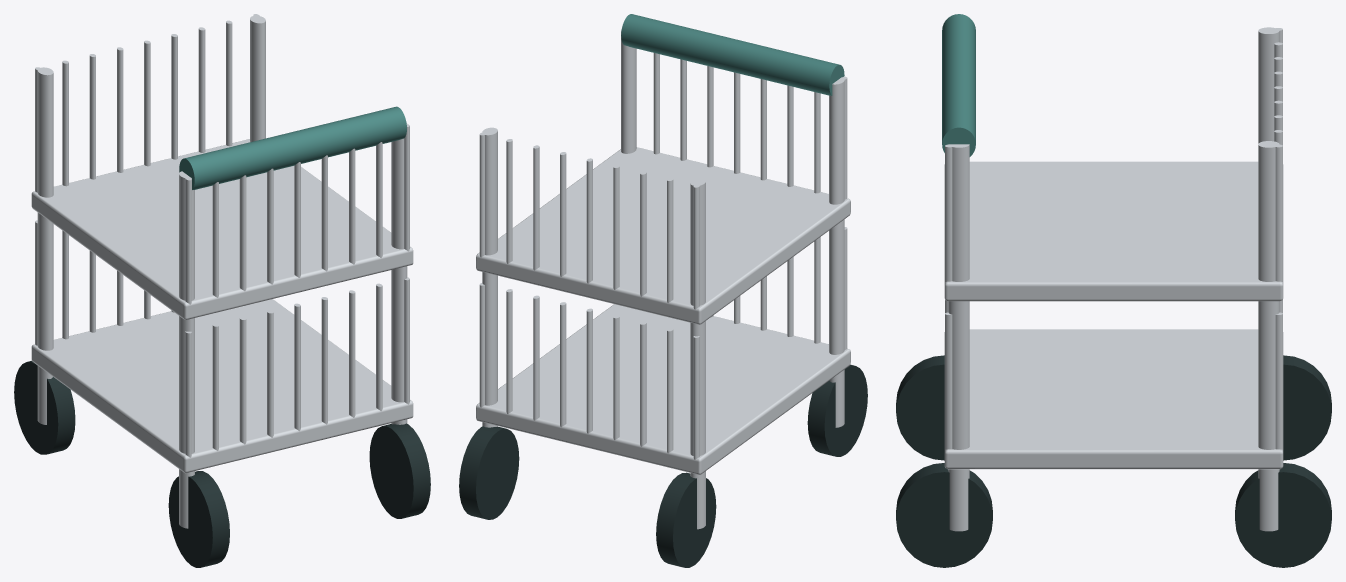
Rendered from wp-chariot-de-supermarche.glb.
The picture shows the model from 3 angles, left to right: view 1: azimuth 30°, elevation 25°; view 2: azimuth 150°, elevation 25°; view 3: azimuth 270°, elevation 25°; orthographic projection. The views are drawn at different scales.
Visible parts, largest first — view 1: wp-chariot-de-supermarche; view 2: wp-chariot-de-supermarche; view 3: wp-chariot-de-supermarche.
Part boxes in pixels (bbox=[...]): wp-chariot-de-supermarche: bbox=[14, 14, 430, 567]; wp-chariot-de-supermarche: bbox=[459, 14, 867, 567]; wp-chariot-de-supermarche: bbox=[896, 14, 1331, 567].
Bounding box in the file's own units: 0.6 × 1 × 0.9.
